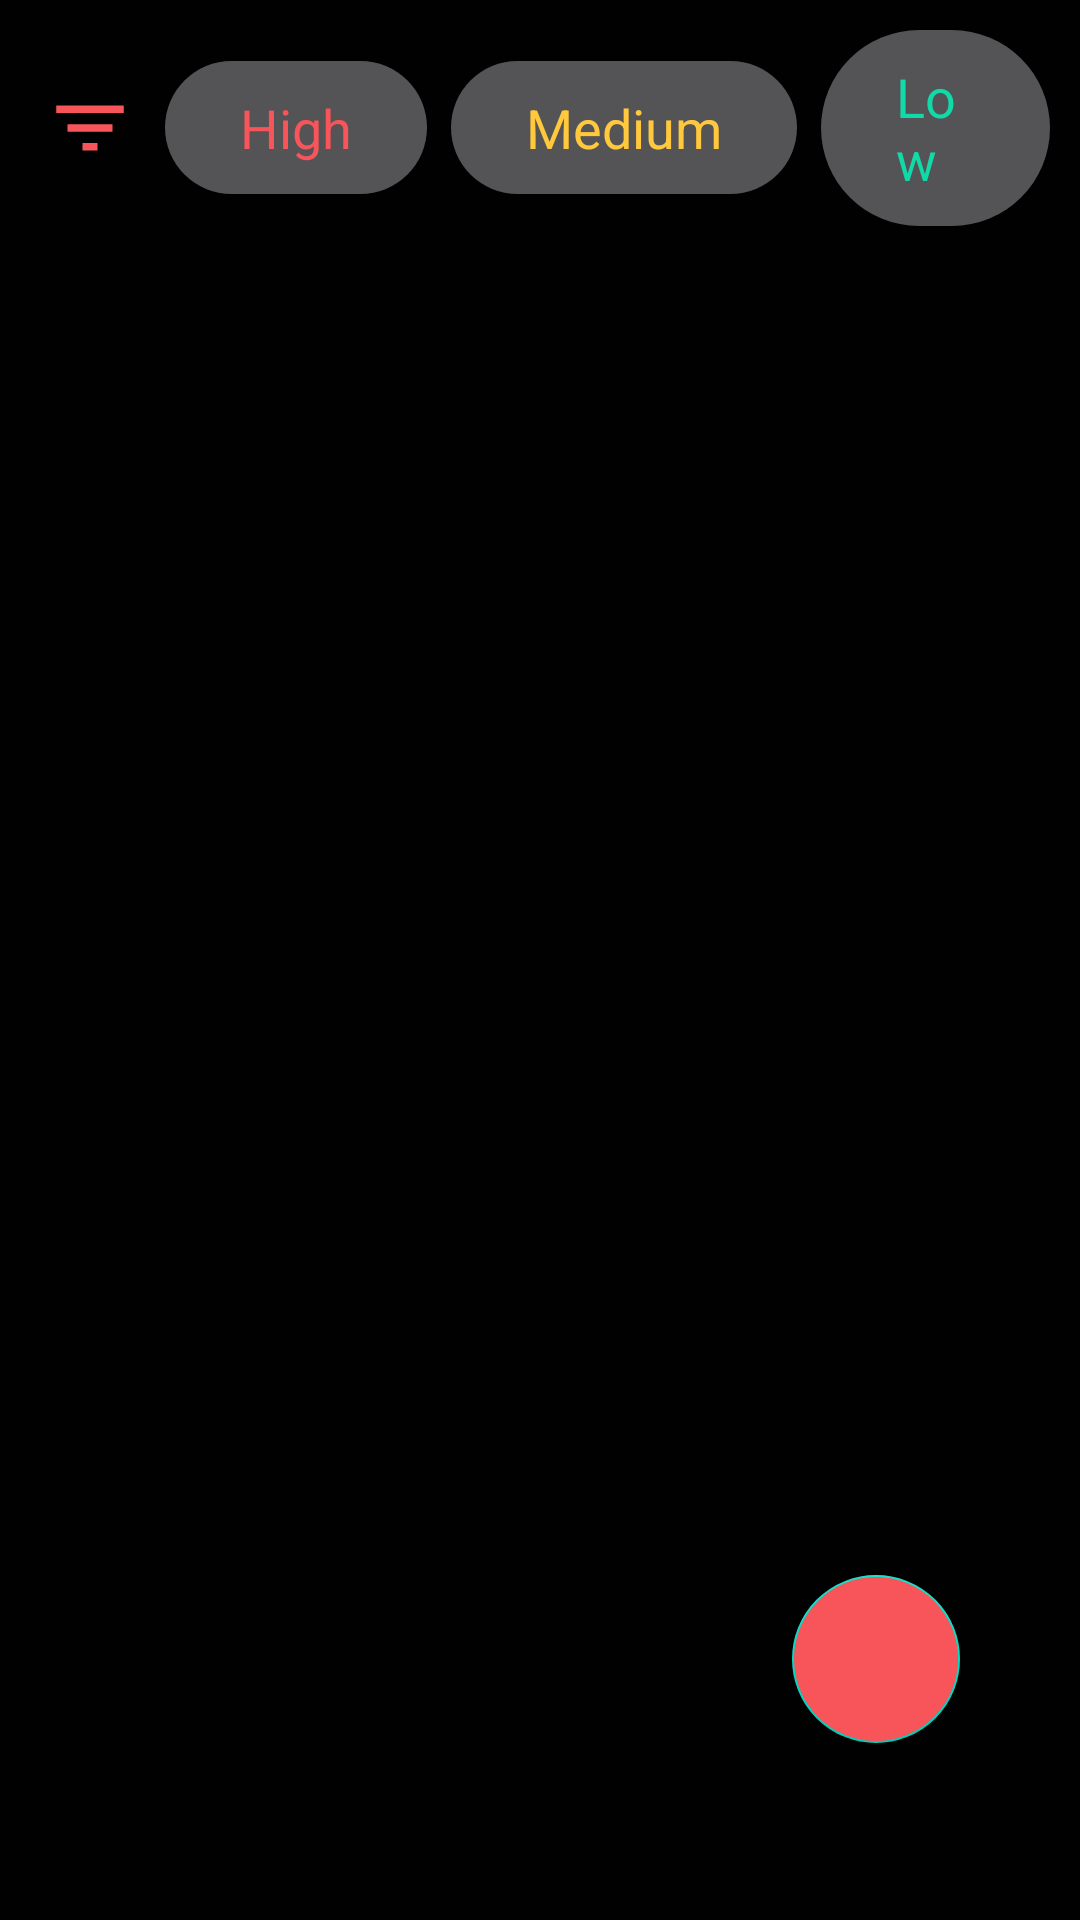

Icons on this 1080 x 1920 Android screen, each with its box as (x1,y1,x2,y2):
filter: (56,105,124,151)
